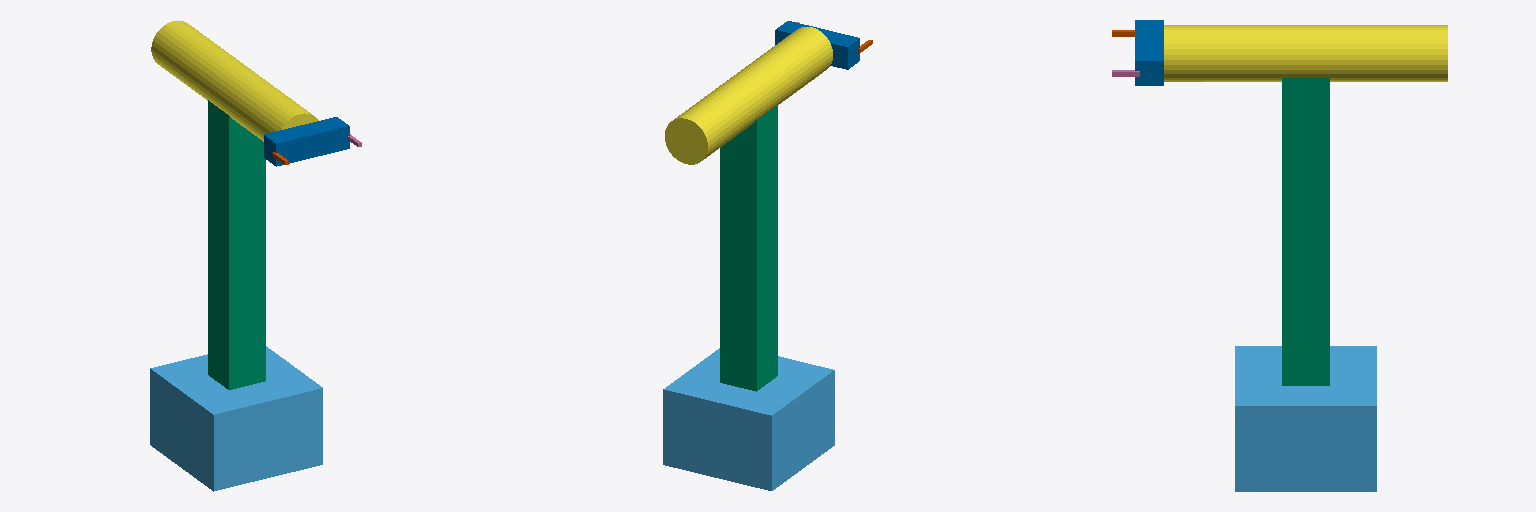
robot.urdf — test_merge_joints:
<robot name="test_merge_joints">
  
 <link name="root_link"/>

 <joint name="root_to_base" type="fixed">
    <parent link="root_link"/>
    <child link="base_link"/>
 </joint>
 
 <link name="base_link">
    <visual>
      <geometry>
        <box size="0.3 .3 .2"/>
      </geometry>
    </visual>
    <collision>
      <geometry>
        <box size="0.3 .3 .2"/>
      </geometry>
    </collision>
    <inertial>
      <mass value="10"/>
      <inertia ixx="1.0" ixy="0.0" ixz="0.0" iyy="1.0" iyz="0.0" izz="1.0"/>
    </inertial>
  </link>

  <joint name="base_joint" type="continuous">
    <parent link="base_link"/>
    <child link="link_1"/>
    <axis xyz="0 0 1"/>
    <origin xyz="0 0 0.45"/>
  </joint>

  <link name="link_1">
    <visual>
      <geometry>
	<box size="0.1 0.1 0.8"/>
      </geometry>
    </visual>
    <collision>
      <geometry>
	<box size="0.1 0.1 0.8"/>
      </geometry>
    </collision>
    <inertial>
      <mass value="10"/>
      <inertia ixx="1.0" ixy="0.0" ixz="0.0" iyy="1.0" iyz="0.0" izz="1.0"/>
    </inertial>
  </link>


  <joint name="elbow_joint" type="fixed">
    <parent link="link_1"/>
    <child link="link_2"/>
    <limit effort="1000.0" lower="-0.6" upper="0.6" velocity="0.5"/>
    <origin xyz="0 0 0.4" rpy="1.571 0 0"/>
    <axis xyz="1 0 0"/> 
 </joint>
  
  <link name="link_2">
    <visual>
      <geometry>
        <cylinder length="0.6" radius=".06"/>
      </geometry>
    </visual>
    <collision>
      <geometry>
        <cylinder length="0.6" radius=".06"/>
      </geometry>
    </collision>
    <inertial>
      <mass value="10"/>
      <inertia ixx="1.0" ixy="0.0" ixz="0.0" iyy="1.0" iyz="0.0" izz="1.0"/>
    </inertial>
  </link>

  <joint name="wrist_joint" type="fixed">
    <parent link="link_2"/>
    <child link="palm_link"/>
    <origin xyz="0 0 0.33"/>
    <axis xyz="0 0 1"/>
  </joint>

  <link name="palm_link">
    <visual>
      <geometry>
        <box size="0.2 .06 .06"/>
      </geometry>
    </visual>
    <collision>
      <geometry>
        <box size="0.2 .06 .06"/>
      </geometry>
    </collision>
    <inertial>
      <mass value="10"/>
      <inertia ixx="1.0" ixy="0.0" ixz="0.0" iyy="1.0" iyz="0.0" izz="1.0"/>
    </inertial>
  </link>

  <joint name="finger_1_joint" type="prismatic">
    <parent link="palm_link"/>
    <child link="finger_link_1"/>
    <limit effort="1000.0" lower="-0.02" upper="0.08" velocity="0.5"/>
    <origin rpy="0 1.571 0" xyz="-0.10 0 0.05"/>
    <axis xyz="0 0 1"/>
  </joint>

  <link name="finger_link_1">
    <visual>
      <geometry>
        <box size="0.06 .01 .01"/>
      </geometry>
    </visual>
    <collision>
      <geometry>
        <box size="0.06 .1 .1"/>
      </geometry>
    </collision>
    <inertial>
      <inertia ixx="1.0" ixy="0.0" ixz="0.0" iyy="1.0" iyz="0.0" izz="1.0"/>
    </inertial>
  </link>

  <joint name="finger_2_joint" type="prismatic">
    <parent link="palm_link"/>
    <child link="finger_link_2"/>
    <limit effort="1000.0" lower="-0.08" upper="0.02" velocity="0.5"/>
    <origin rpy="0 1.571 0" xyz="0.10 0 0.05"/>
    <axis xyz="0 0 1"/>
  </joint>

  <link name="finger_link_2">
    <visual>
      <geometry>
        <box size="0.06 .01 .01"/>
      </geometry>
    </visual>
    <collision>
      <geometry>
        <box size="0.06 .1 .1"/>
      </geometry>
    </collision>
    <inertial>
      <inertia ixx="2.0" ixy="0.0" ixz="0.0" iyy="3.0" iyz="0.0" izz="1.0"/>
    </inertial>
  </link>
</robot>

--- Render facts (derived) ---
Views: 3 orthographic renders of the robot side by side, from view 1: azimuth 30°, elevation 25°; view 2: azimuth 150°, elevation 25°; view 3: azimuth 270°, elevation 25°.
Model test_merge_joints with 7 links and 6 joints (1 continuous, 2 prismatic, 3 fixed), rooted at root_link, posed every joint at zero.
Links seen in each view (by area): view 1: base_link, link_1, link_2, palm_link; view 2: base_link, link_1, link_2, palm_link; view 3: base_link, link_2, link_1, palm_link.
Boxes of the visible links, x1=… form: base_link: x1=150, y1=346, x2=322, y2=491; link_1: x1=208, y1=100, x2=265, y2=389; link_2: x1=151, y1=20, x2=318, y2=141; palm_link: x1=264, y1=117, x2=349, y2=166; base_link: x1=663, y1=348, x2=834, y2=490; link_1: x1=720, y1=105, x2=777, y2=391; link_2: x1=665, y1=27, x2=832, y2=164; palm_link: x1=775, y1=21, x2=859, y2=69; base_link: x1=1235, y1=346, x2=1376, y2=491; link_2: x1=1164, y1=25, x2=1447, y2=81; link_1: x1=1282, y1=78, x2=1329, y2=385; palm_link: x1=1135, y1=20, x2=1163, y2=85.
Size in the robot's own frame: 0.3 by 0.71 by 1.01 metres.
Geometry: primitives only (box / cylinder / sphere), no mesh files.
